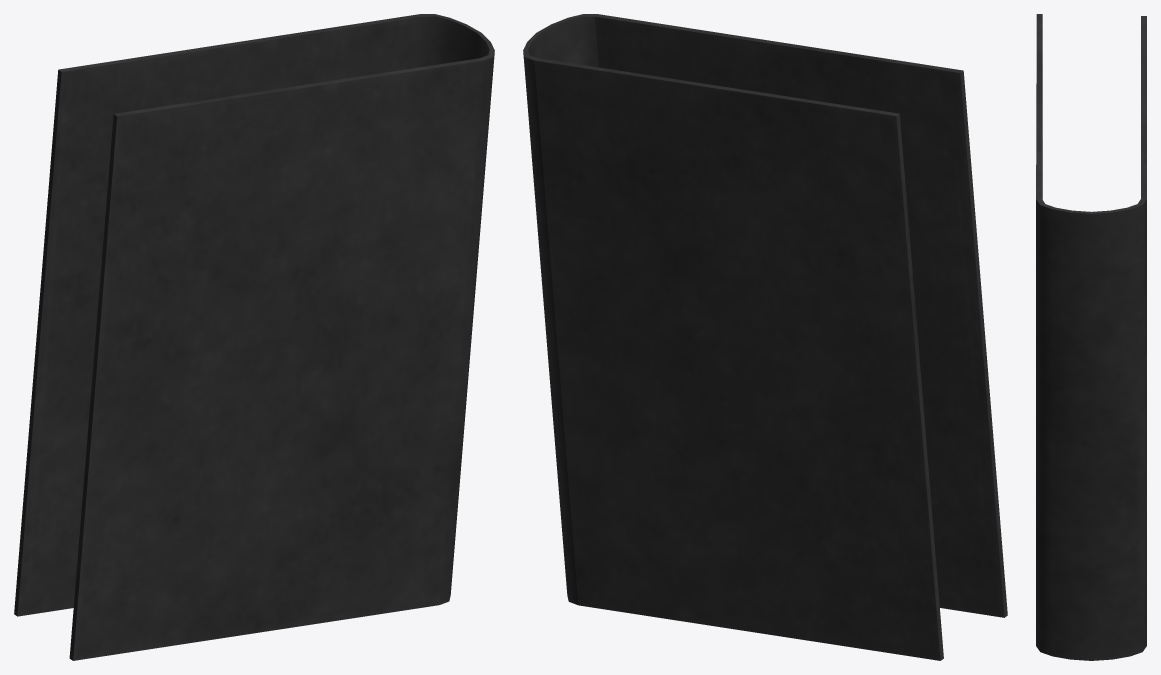
Rendered from cover004.obj.
3 views of the same model, side by side, from view 1: azimuth 30°, elevation 25°; view 2: azimuth 150°, elevation 25°; view 3: azimuth 270°, elevation 25° (orthographic). The views are drawn at different scales.
Size of the model in its own units: 0.0104 by 0.0128 by 0.0026.
Materials: 1 (1 with a texture image).
